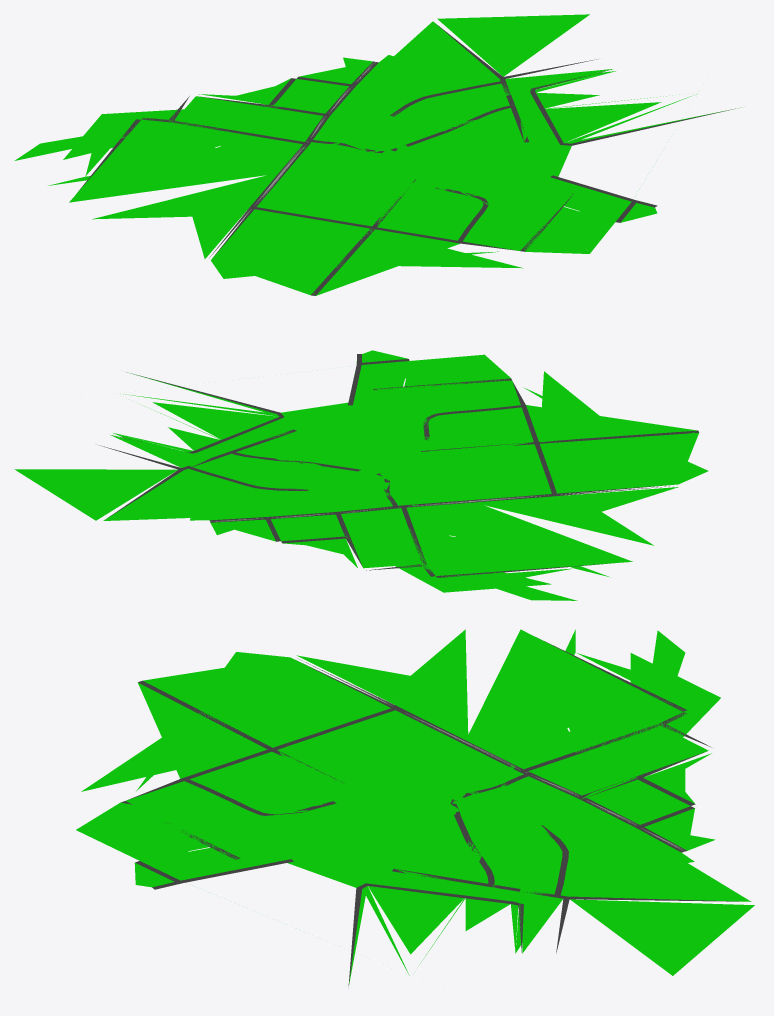
3 views of the same model, one above another, from view 1: azimuth 30°, elevation 25°; view 2: azimuth 150°, elevation 25°; view 3: azimuth 270°, elevation 25° (orthographic). The views are drawn at different scales.
Bounding box in the file's own units: 481 × 0.001 × 407.
